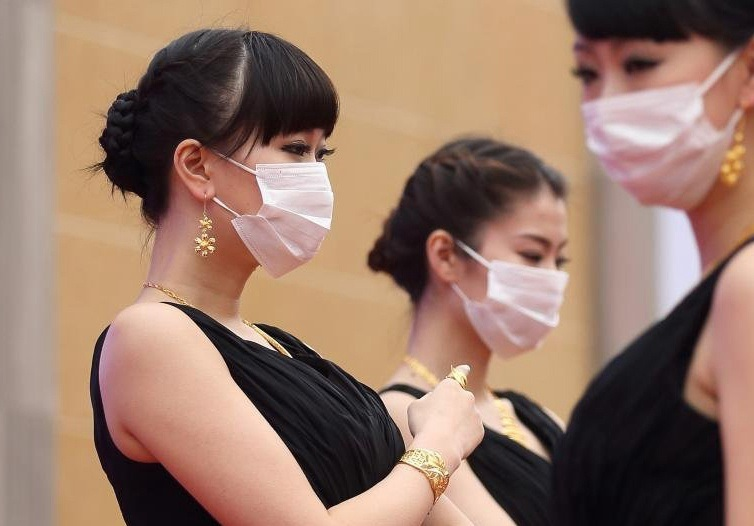face_mask: (574, 11, 727, 212), (219, 95, 333, 273), (457, 194, 579, 335)
